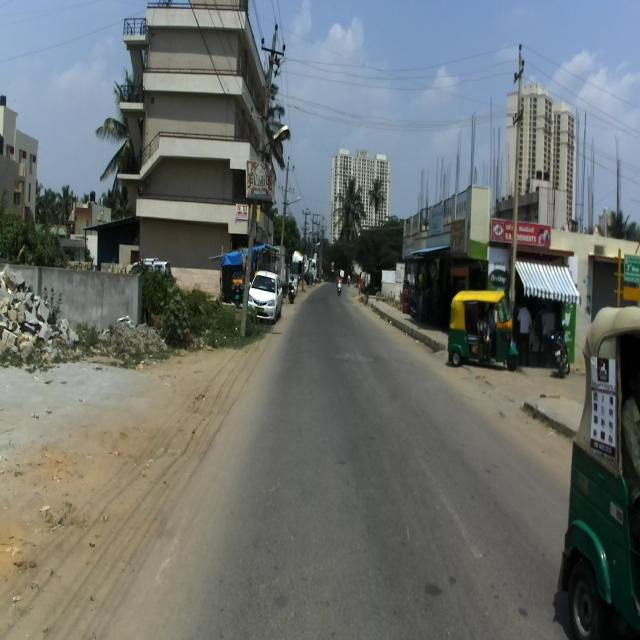auto ahead at: (448, 285, 514, 377)
car ahead at: (249, 266, 282, 324)
electric pole ahead at: (238, 20, 288, 338)
